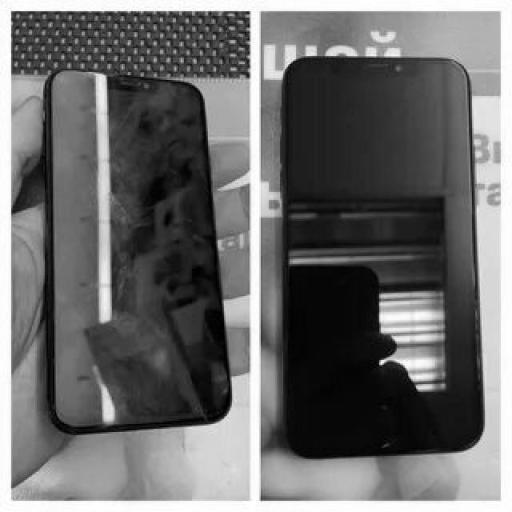phone: (273, 52, 485, 463), (45, 68, 240, 445)
